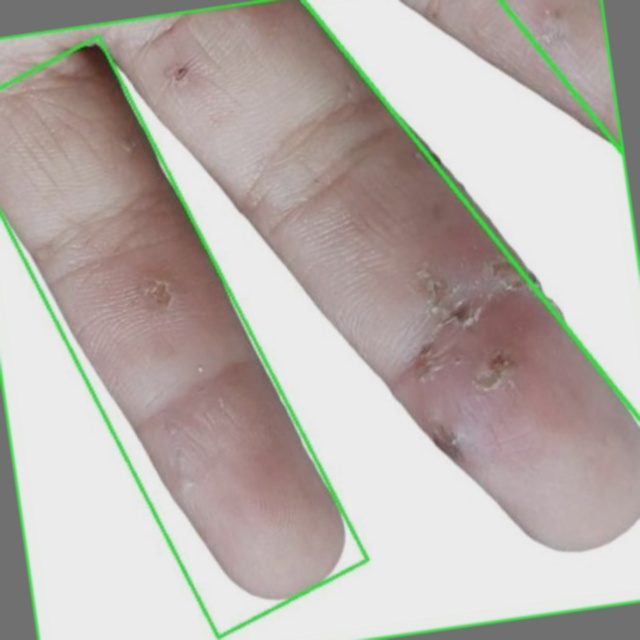Scabies: (0, 0, 639, 639), (0, 36, 367, 636), (302, 0, 639, 458)
